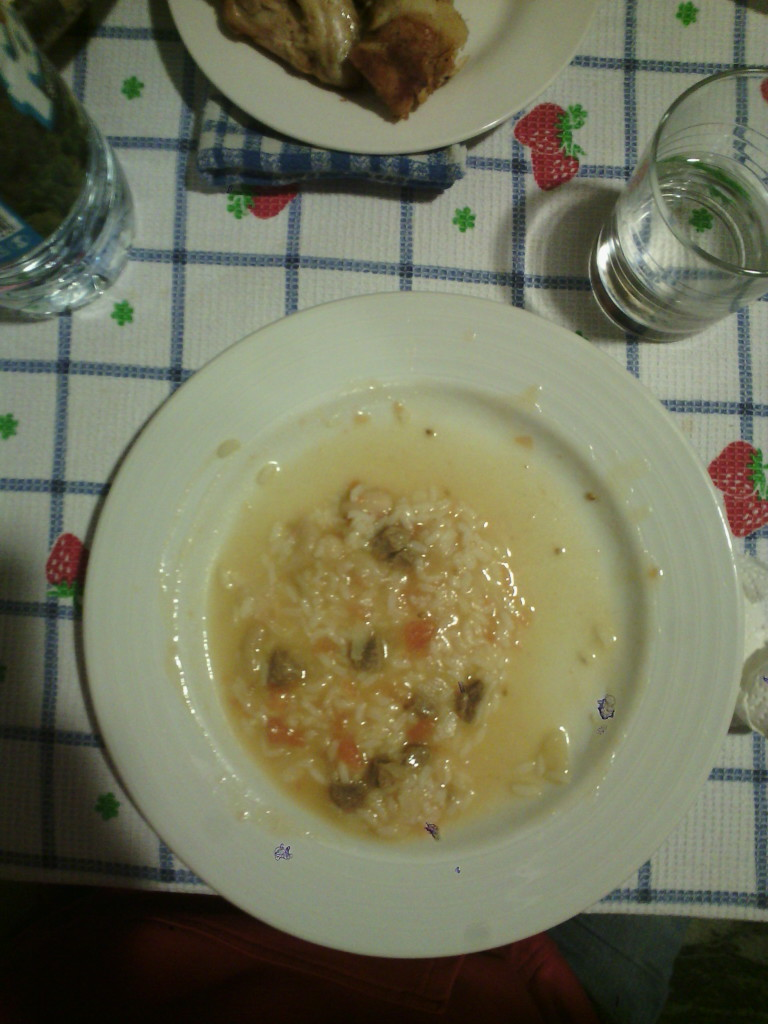41-60: (86, 283, 742, 959)
